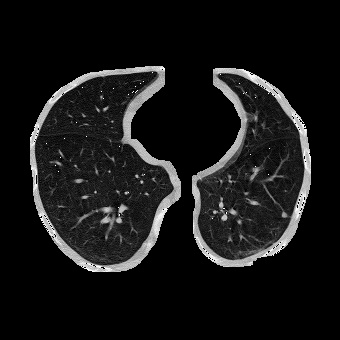PN: (281, 212, 287, 218)
